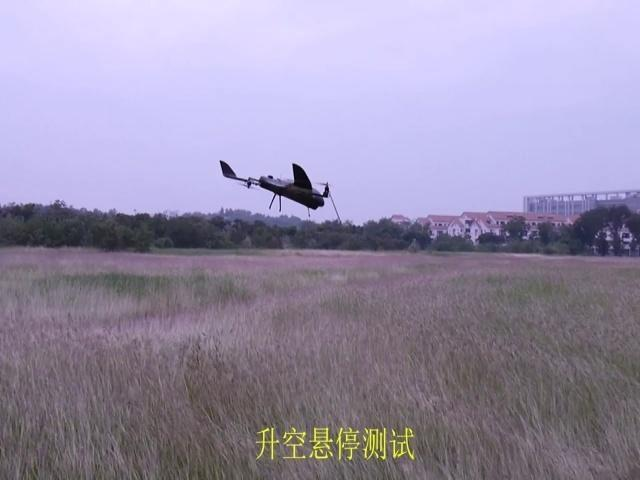Airplane: (219, 159, 331, 218)
